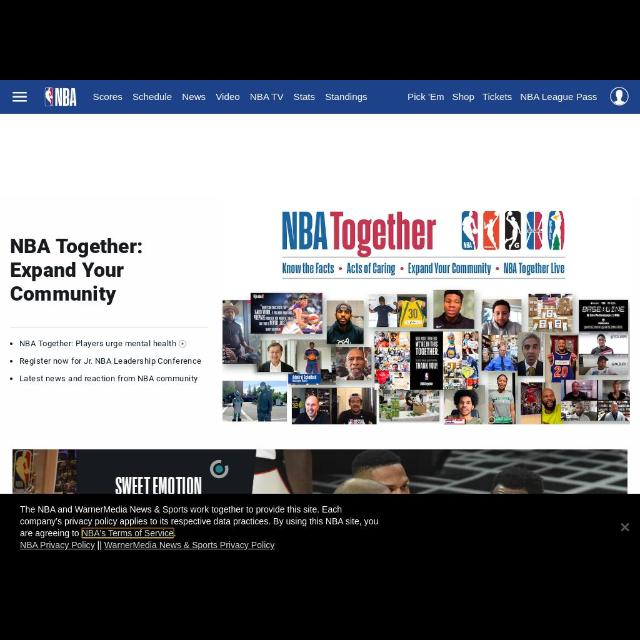icon: (610, 86, 630, 105), (12, 91, 28, 102), (620, 522, 630, 532), (179, 340, 187, 348)
image: (223, 290, 632, 426), (12, 449, 628, 493), (462, 210, 478, 250), (483, 210, 499, 250), (526, 210, 542, 250), (505, 212, 521, 250), (548, 212, 564, 250), (45, 88, 77, 106)
panel: (1, 494, 640, 560)
text: (21, 505, 380, 551), (282, 210, 436, 258), (10, 240, 142, 258), (11, 286, 117, 306), (11, 262, 125, 280), (20, 358, 202, 367), (20, 376, 198, 384), (19, 339, 177, 348), (409, 262, 491, 276), (504, 262, 564, 276), (346, 262, 396, 276), (520, 94, 598, 102), (283, 262, 335, 274), (325, 92, 367, 102), (133, 92, 173, 100), (408, 93, 444, 101), (250, 93, 284, 101), (482, 92, 512, 100), (94, 93, 122, 101), (453, 93, 475, 103), (216, 92, 240, 100), (182, 93, 205, 101), (294, 94, 314, 100)
toolbar: (1, 81, 639, 113)
